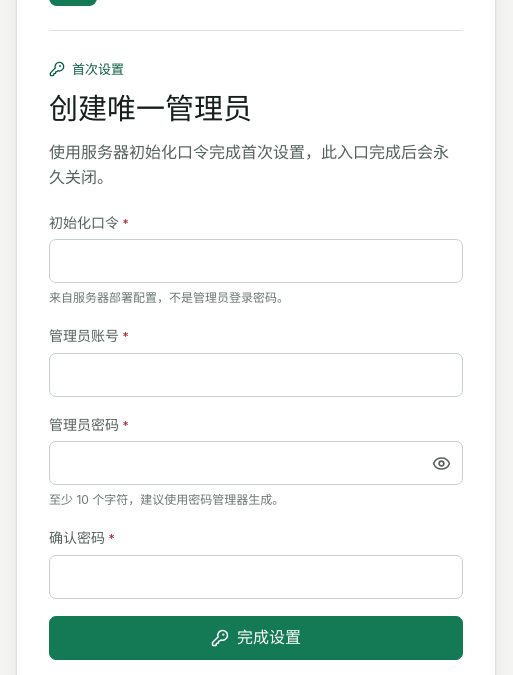
Test: 首次设置 › 缺少必填项时给出就地错误且不发送请求
The width and height of the screenshot is (513, 675).
(page scrolled)
Click the button "完成设置". click: (256, 638)
box: [49,616,463,660]
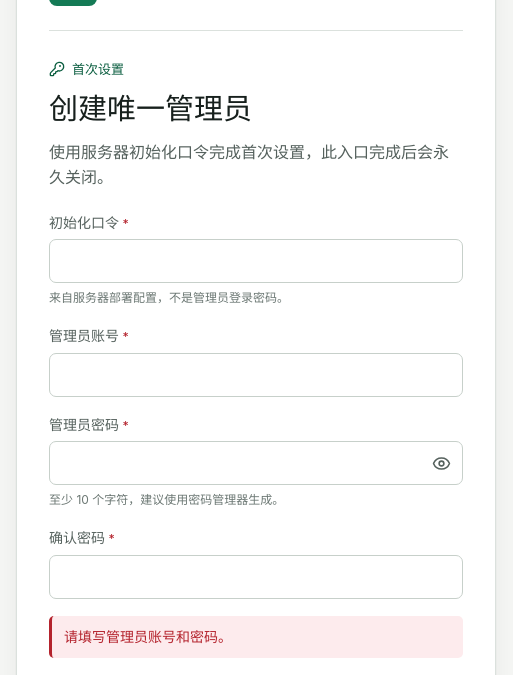
Check: the message shows "请填写管理员账号和密码", box [64,628,232,645]
